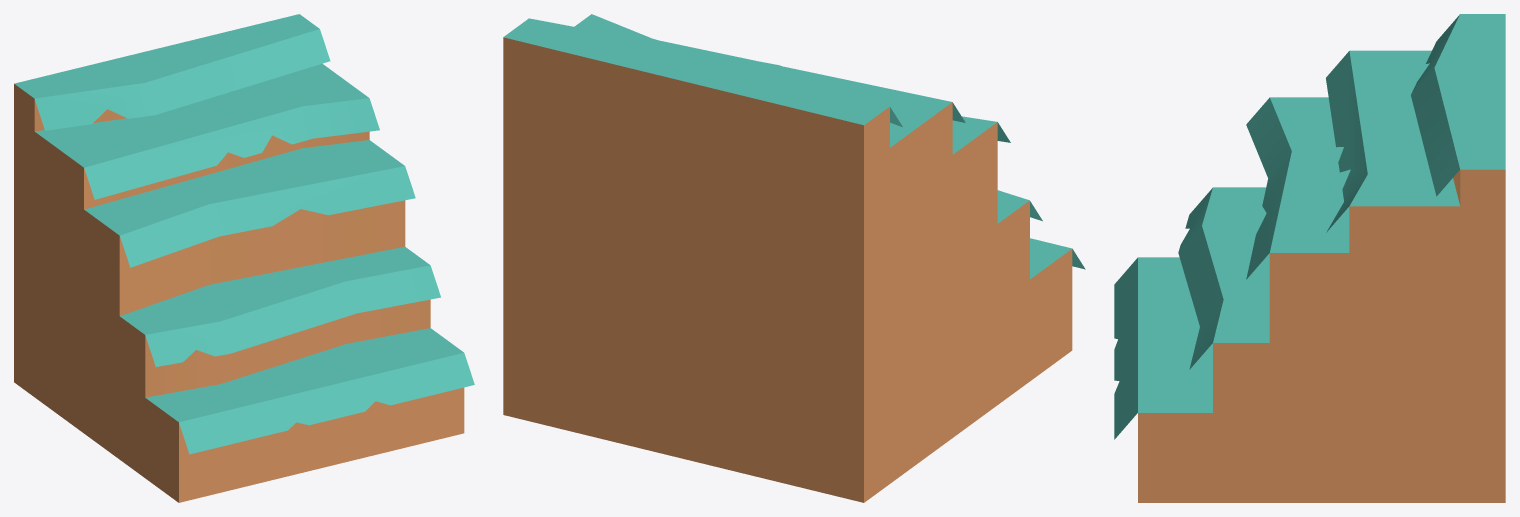
The model's file is cliffBrown_steps.fbx.
3 renders of one model, left to right at view 1: azimuth 30°, elevation 25°; view 2: azimuth 150°, elevation 25°; view 3: azimuth 270°, elevation 25°, orthographic. The views are drawn at different scales.
Parts seen in each view (by area): view 1: cliffBrown_steps; view 2: cliffBrown_steps; view 3: cliffBrown_steps.
Boxes of the visible parts, left/top/right/bottom form: cliffBrown_steps: left=14, top=14, right=474, bottom=502; cliffBrown_steps: left=503, top=14, right=1085, bottom=502; cliffBrown_steps: left=1114, top=14, right=1505, bottom=502.
Bounding box in the file's own units: 10 × 10 × 10.64.
